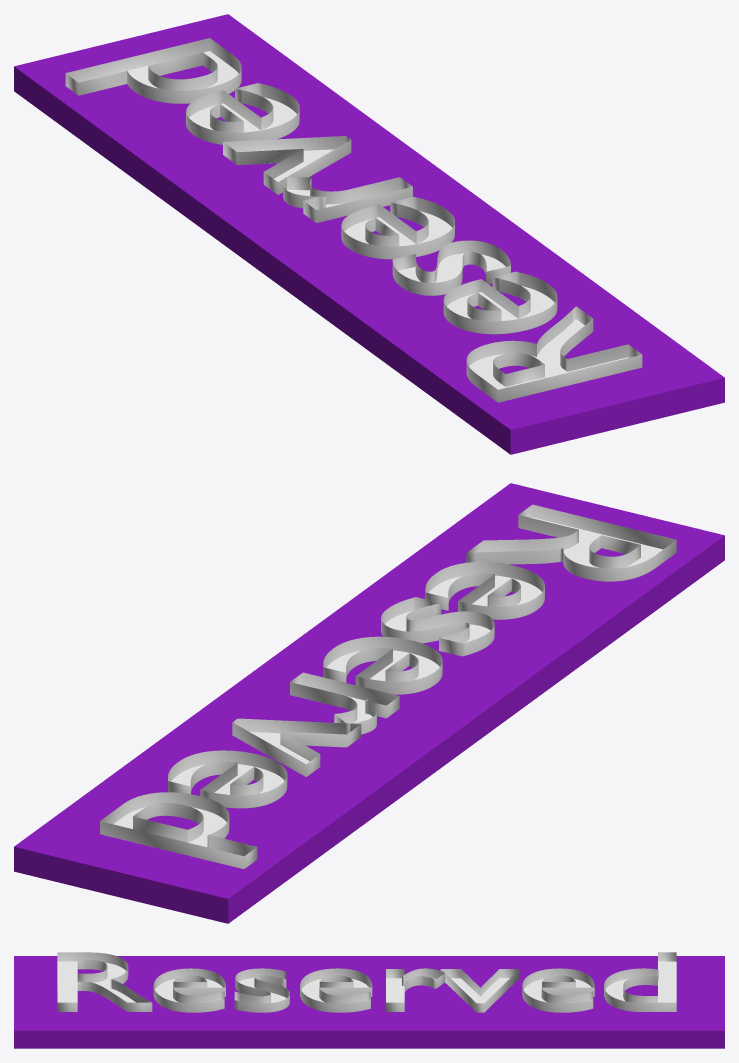
File: reserved1.glb
3 renders of one model, top to bottom at view 1: azimuth 30°, elevation 25°; view 2: azimuth 150°, elevation 25°; view 3: azimuth 270°, elevation 25°, orthographic. The views are drawn at different scales.
Visible parts, largest first — view 1: Cube, Text; view 2: Cube, Text; view 3: Cube, Text.
Boxes of the visible parts, x1,y1,x2,y2 form: Cube: (14,14,724,454); Text: (65,38,642,402); Cube: (14,483,724,923); Text: (100,504,676,869); Cube: (14,956,724,1048); Text: (57,952,676,1012).
Bounding box in the file's own units: 1.26 × 0.2162 × 5.06.
